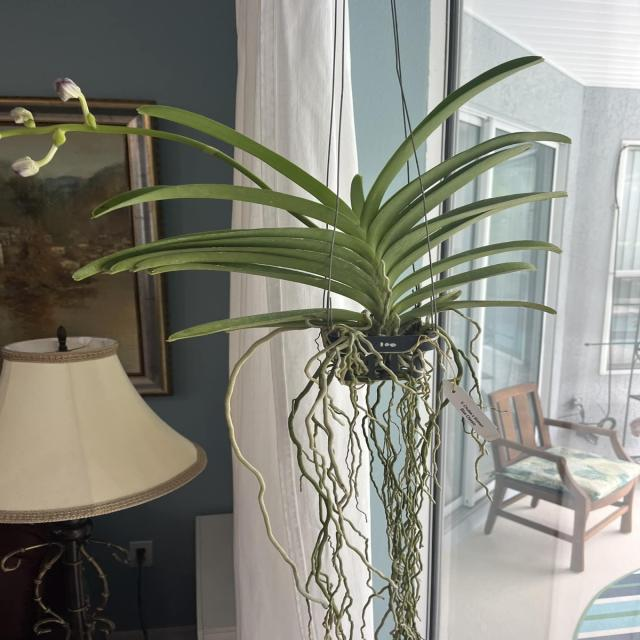leaf: (140, 107, 355, 225), (385, 59, 525, 174), (79, 230, 363, 274), (387, 192, 551, 265), (394, 264, 533, 312), (97, 184, 302, 214), (171, 312, 323, 340), (351, 174, 362, 213)
plant: (8, 11, 601, 639)
pot: (320, 320, 475, 397)
root: (320, 325, 454, 637), (225, 328, 279, 550)
